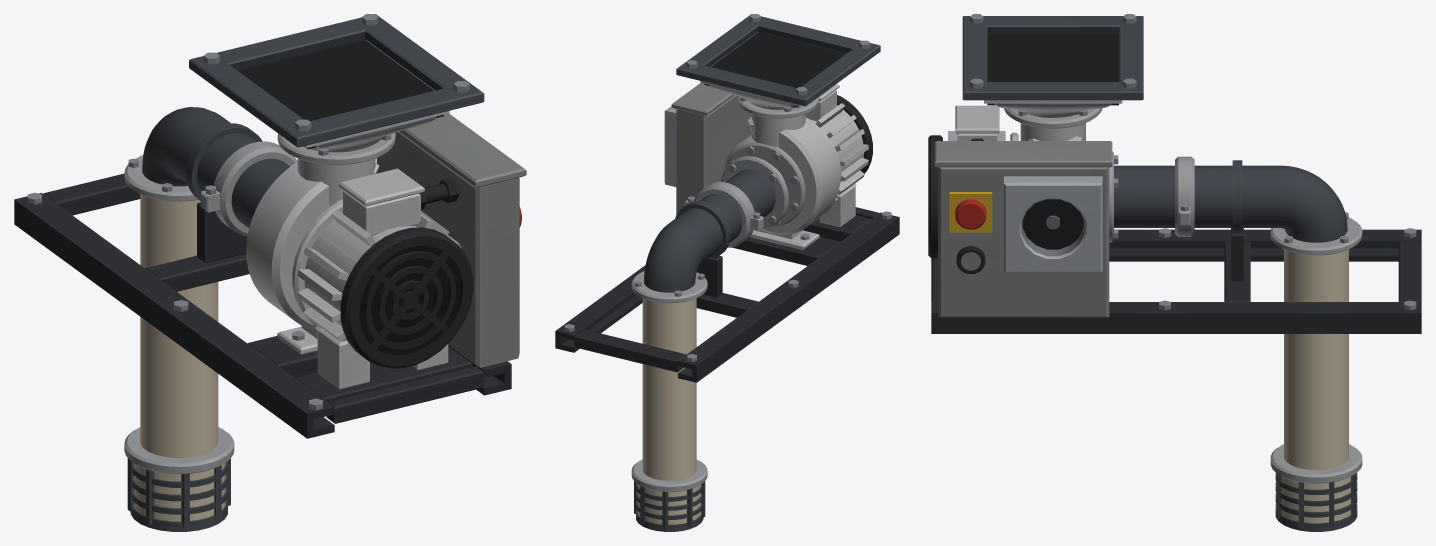
The model's file is body.obj.
The picture shows the model from 3 angles, left to right: view 1: azimuth 30°, elevation 25°; view 2: azimuth 150°, elevation 25°; view 3: azimuth 270°, elevation 25°; orthographic projection. The views are drawn at different scales.
Parts seen in each view (by area): view 1: body_starter_box, body_channels, body_fport_plate, body_suction_drop, body_cross, body_fport_throat, body_volute, body_grille_rings, body_suction_pipe, body_fan_cowl, body_terminal_box, body_strainer_bands (+19 smaller); view 2: body_channels, body_suction_drop, body_fport_plate, body_starter_box, body_cross, body_volute, body_fport_throat, body_elbow, body_suction_pipe, body_strainer_bands, body_cover, body_fins (+17 smaller); view 3: body_starter_box, body_channels, body_suction_drop, body_fport_plate, body_suction_pipe, body_pport_plate, body_fport_throat, body_elbow, body_cross, body_strainer_bands, body_pport_socket, body_strainer_flange (+12 smaller).
Boxes of the visible parts, left/top/right/bottom form: body_starter_box: left=376, top=113, right=526, bottom=367; body_channels: left=14, top=193, right=511, bottom=438; body_fport_plate: left=189, top=14, right=484, bottom=147; body_suction_drop: left=140, top=194, right=218, bottom=457; body_cross: left=43, top=173, right=484, bottom=423; body_fport_throat: left=238, top=40, right=443, bottom=149; body_volute: left=246, top=162, right=379, bottom=330; body_grille_rings: left=355, top=241, right=467, bottom=361; body_suction_pipe: left=169, top=112, right=290, bottom=228; body_fan_cowl: left=340, top=227, right=473, bottom=368; body_terminal_box: left=339, top=168, right=424, bottom=235; body_strainer_bands: left=127, top=458, right=230, bottom=529; body_channels: left=555, top=212, right=899, bottom=382; body_suction_drop: left=642, top=298, right=696, bottom=480; body_fport_plate: left=676, top=14, right=880, bottom=106; body_starter_box: left=671, top=83, right=751, bottom=214; body_cross: left=574, top=207, right=879, bottom=372; body_volute: left=724, top=117, right=839, bottom=234; body_fport_throat: left=704, top=32, right=846, bottom=107; body_elbow: left=644, top=220, right=706, bottom=292; body_suction_pipe: left=671, top=169, right=775, bottom=263; body_strainer_bands: left=634, top=481, right=705, bottom=529; body_cover: left=727, top=141, right=805, bottom=226; body_fins: left=816, top=103, right=868, bottom=200; body_starter_box: left=934, top=141, right=1112, bottom=317; body_channels: left=931, top=229, right=1421, bottom=333; body_suction_drop: left=1284, top=249, right=1348, bottom=469; body_fport_plate: left=962, top=16, right=1143, bottom=100; body_suction_pipe: left=1114, top=165, right=1280, bottom=227; body_pport_plate: left=1004, top=176, right=1102, bottom=272; body_fport_throat: left=987, top=34, right=1118, bottom=105; body_elbow: left=1280, top=165, right=1347, bottom=242; body_cross: left=931, top=241, right=1421, bottom=301; body_strainer_bands: left=1275, top=473, right=1357, bottom=528; body_pport_socket: left=1022, top=199, right=1083, bottom=249; body_strainer_flange: left=1270, top=444, right=1362, bottom=483.
Size of the model in its own units: 0.875 by 1.96 by 1.88.
